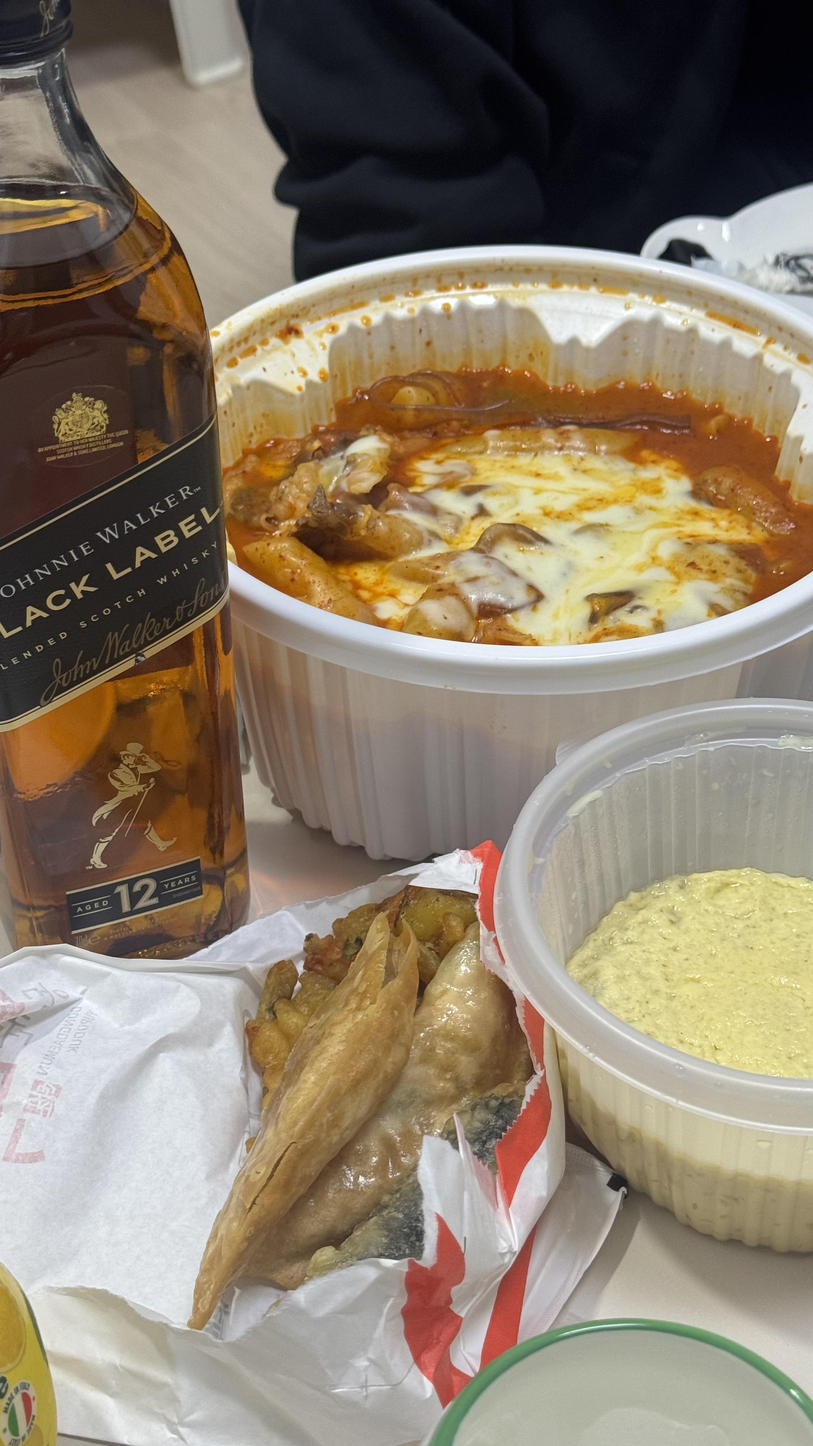Bottle: (0, 0, 249, 958)
Lunch Box: (0, 845, 619, 1446), (213, 249, 813, 859), (495, 701, 813, 1252)
cup: (641, 184, 813, 316)
